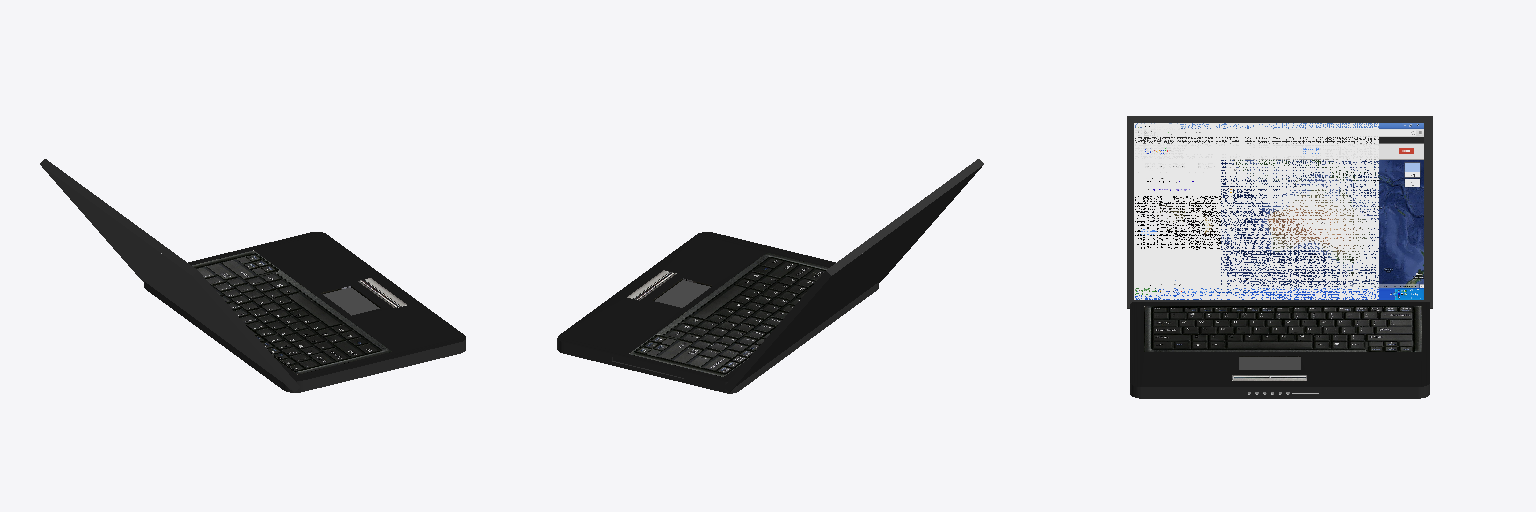
3 renders of one model, left to right at view 1: azimuth 30°, elevation 25°; view 2: azimuth 150°, elevation 25°; view 3: azimuth 270°, elevation 25°, orthographic.
Visible parts, largest first — view 1: mesh3-geometry-1, mesh3-geometry-0, mesh1-geometry-0, mesh3-geometry-3, mesh3-geometry-2; view 2: mesh3-geometry-1, mesh3-geometry-0, mesh1-geometry-0, mesh3-geometry-3, mesh3-geometry-2; view 3: mesh1-geometry-1, mesh2-geometry-0, mesh3-geometry-1, mesh3-geometry-0, mesh1-geometry-0, mesh3-geometry-3, mesh3-geometry-2.
Boxes of the visible parts, <box> form: mesh3-geometry-1: <box>192,250,406,374</box>; mesh3-geometry-0: <box>188,232,465,381</box>; mesh1-geometry-0: <box>40,159,299,392</box>; mesh3-geometry-3: <box>144,282,465,392</box>; mesh3-geometry-2: <box>323,288,379,315</box>; mesh3-geometry-1: <box>627,253,827,376</box>; mesh3-geometry-0: <box>558,232,835,381</box>; mesh1-geometry-0: <box>724,159,983,392</box>; mesh3-geometry-3: <box>557,283,878,393</box>; mesh3-geometry-2: <box>655,280,710,307</box>; mesh1-geometry-1: <box>1134,123,1378,299</box>; mesh2-geometry-0: <box>1135,123,1423,299</box>; mesh3-geometry-1: <box>1144,306,1421,380</box>; mesh3-geometry-0: <box>1130,302,1429,386</box>; mesh1-geometry-0: <box>1127,116,1432,308</box>; mesh3-geometry-3: <box>1130,383,1429,398</box>; mesh3-geometry-2: <box>1239,357,1300,369</box>.
Size of the model in its own units: 0.6817 by 0.3461 by 0.6446.
7 materials, 2 textured.